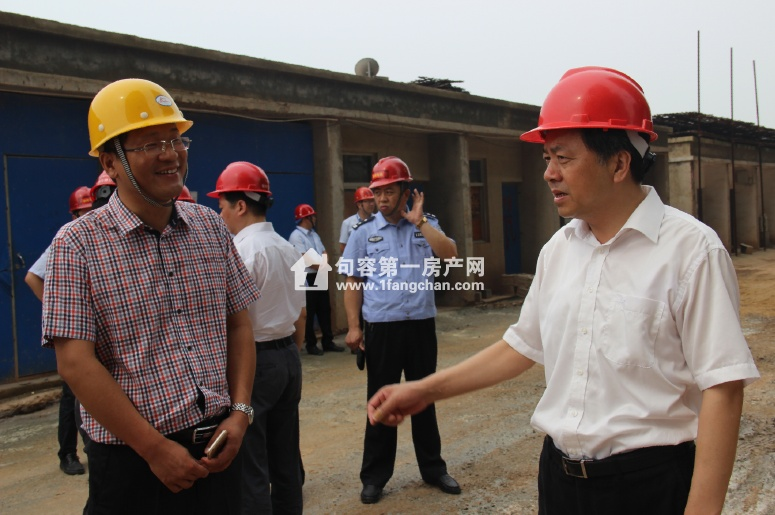red: (533, 61, 660, 224), (214, 159, 270, 230), (370, 154, 414, 216), (68, 186, 94, 219), (294, 202, 316, 230), (354, 185, 375, 214)
yellow: (83, 75, 195, 207)
